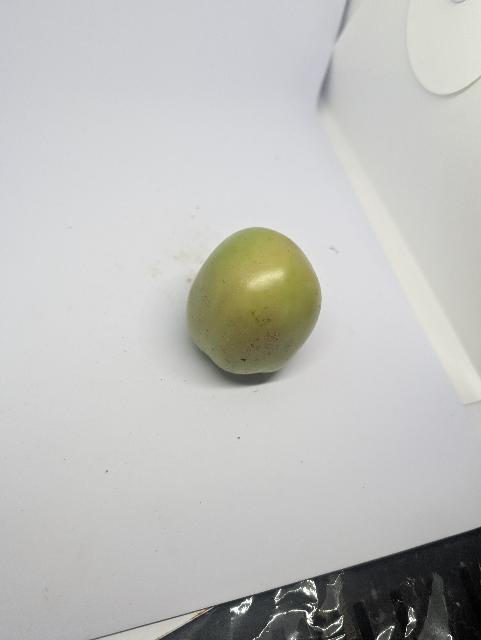green: (185, 223, 325, 379)
